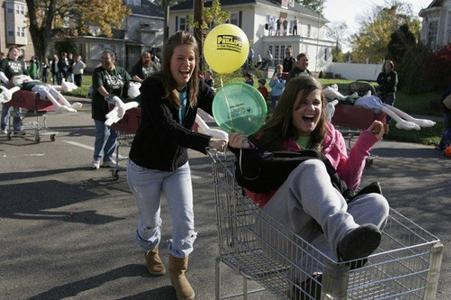person: (125, 31, 228, 300)
